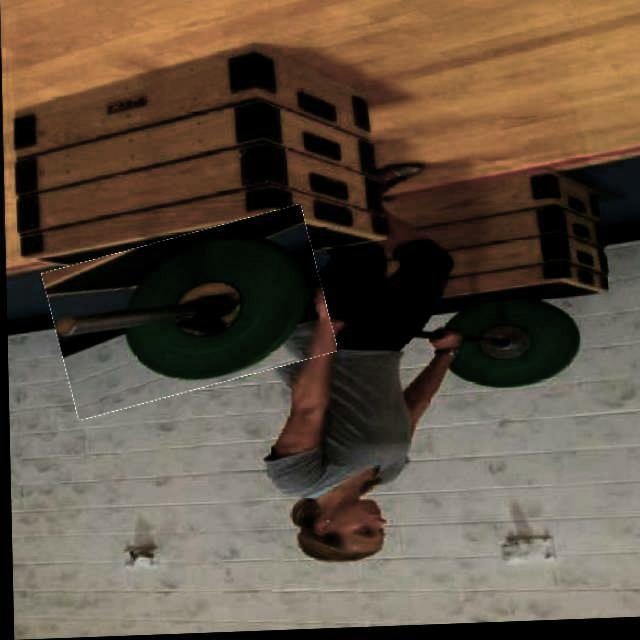barbell: (46, 220, 330, 409)
